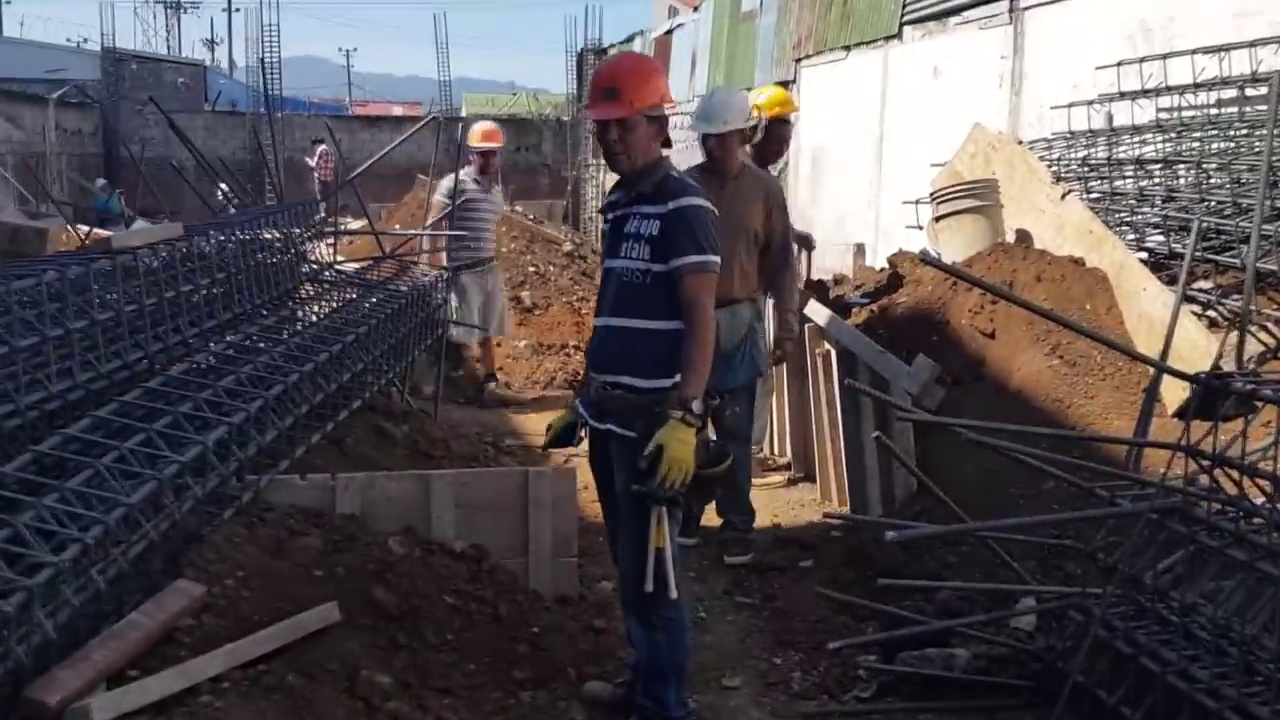helmet: (583, 44, 680, 120), (692, 79, 757, 135), (752, 84, 795, 123), (466, 118, 505, 154), (93, 179, 108, 188)
helmet-off: (310, 134, 326, 150)
helmet-on: (584, 50, 681, 182), (693, 82, 756, 172), (749, 82, 797, 174), (465, 116, 506, 176), (93, 178, 109, 194)
person: (561, 37, 715, 718), (696, 72, 798, 555), (416, 117, 515, 425), (309, 133, 342, 218), (87, 178, 119, 225)
